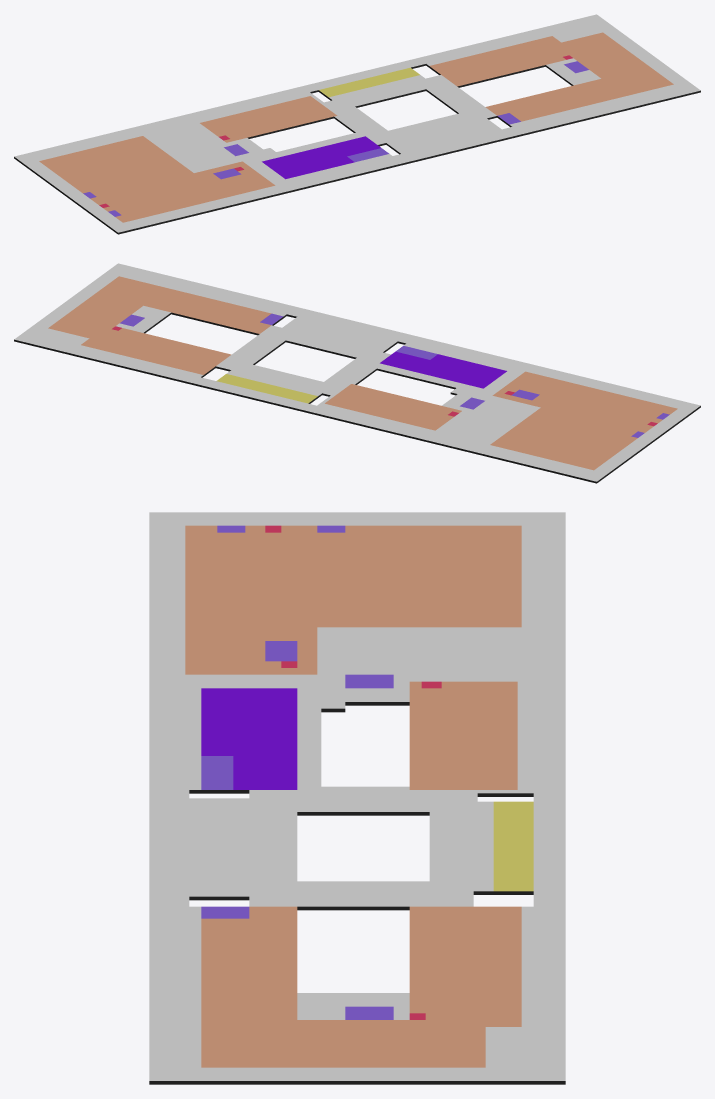
Rendered from SM_TrainStationFloor2.fbx.
3 renders of one model, top to bottom at view 1: azimuth 30°, elevation 25°; view 2: azimuth 150°, elevation 25°; view 3: azimuth 270°, elevation 25°, orthographic. The views are drawn at different scales.
Parts seen in each view (by area): view 1: Cube; view 2: Cube; view 3: Cube.
Boxes of the visible parts, left/top/right/bottom form: Cube: left=14, top=14, right=700, bottom=234; Cube: left=14, top=263, right=700, bottom=483; Cube: left=149, top=512, right=565, bottom=1084.
Size of the model in its own units: 33600 by 100 by 10400.
